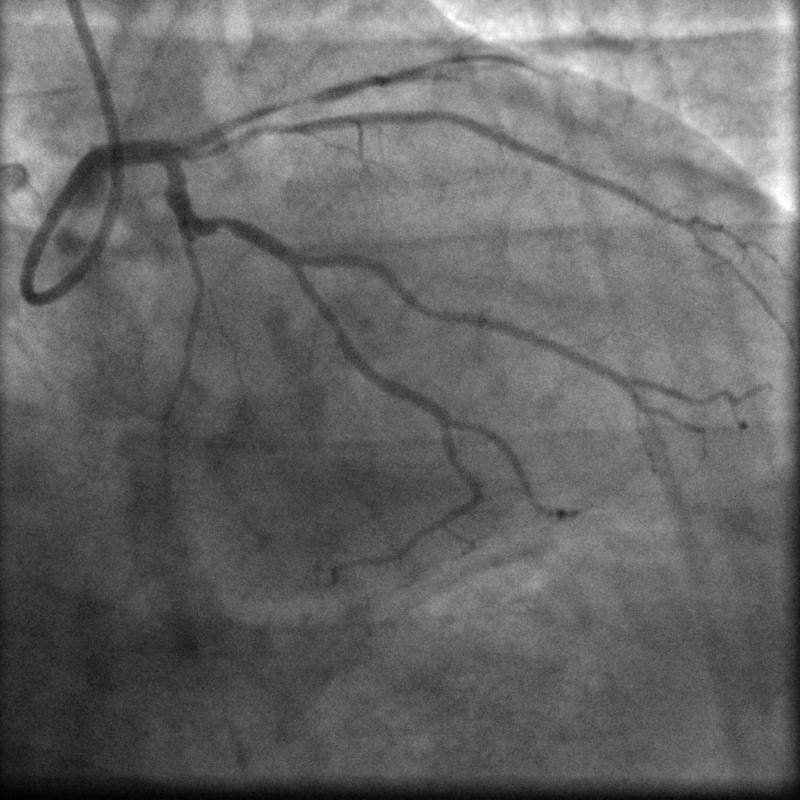Stenosis: (211, 211, 234, 240)
